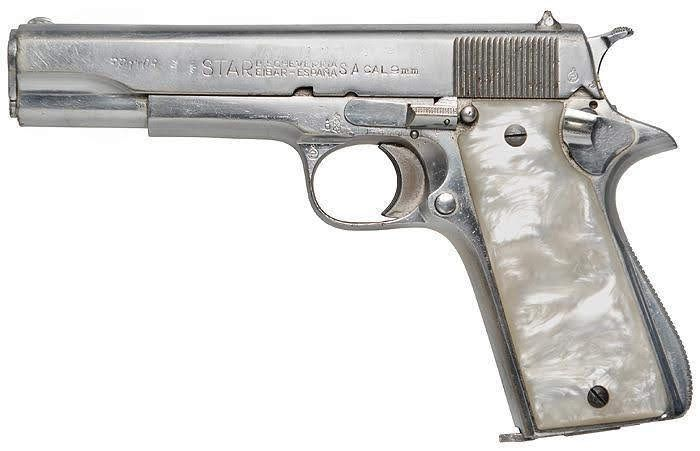gun: (5, 4, 675, 429)
